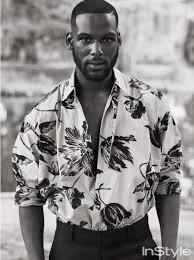person: (64, 1, 122, 84)
